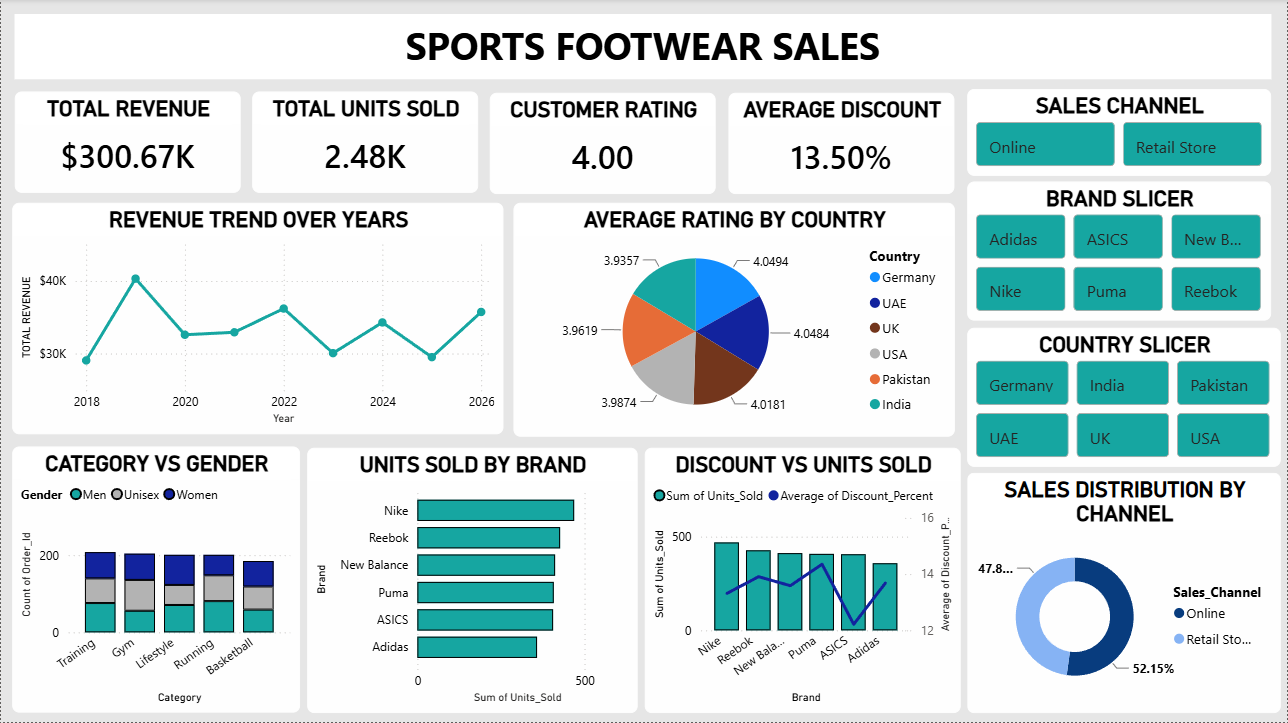

This screenshot's page, from the dashboard's own definition file:
{"tool":"powerbi","page":{"name":"Page 1","canvas":[1280,720],"ordinal":0},"visuals":[{"type":"textbox","box":[13.7,14.9,1250.2,65],"z":0},{"type":"cardVisual","title":"TOTAL REVENUE","fields":{"Data":["Sheet1.TOTAL REVENUE"]},"box":[13.7,92.1,225.2,100.8],"z":1000},{"type":"barChart","title":"UNITS SOLD BY BRAND","fields":{"Category":["Sheet1.brand"],"Y":["Sum(Sheet1.units_sold)"]},"box":[304.8,446.6,328.4,263.7],"z":2000},{"type":"lineChart","title":"REVENUE TREND OVER YEARS","fields":{"Y":["Sheet1.TOTAL REVENUE"],"Category":["Sheet1.order_date.Variation.Date Hierarchy.Year"]},"box":[11.2,202.8,488.9,230.1],"z":3000},{"type":"cardVisual","title":"TOTAL UNITS SOLD","fields":{"Data":["Sheet1.TOTAL UNITS SOLD"]},"box":[250,92.1,225.2,100.8],"z":4000},{"type":"cardVisual","title":"CUSTOMER RATING","fields":{"Data":["Sheet1.AVERAGE RATING"]},"box":[486.4,93.3,225.2,100.8],"z":5000},{"type":"cardVisual","title":"AVERAGE DISCOUNT","fields":{"Data":["Sheet1.AVERAGE DISCOUNT"]},"box":[724,93.3,225.2,100.8],"z":6000},{"type":"pieChart","title":"AVERAGE RATING BY COUNTRY","fields":{"Category":["Sheet1.Country"],"Y":["Avg(Sheet1.Customer_Rating)"]},"box":[510,202.8,439.1,232.6],"z":7000},{"type":"columnChart","title":"CATEGORY VS GENDER","fields":{"Category":["Sheet1.Category"],"Y":["CountNonNull(Sheet1.Order_Id)"],"Series":["Sheet1.Gender"]},"box":[11.2,445.3,286.1,265],"z":8000},{"type":"donutChart","title":"SALES DISTRIBUTION BY CHANNEL","fields":{"Category":["Sheet1.Sales_Channel"],"Y":["CountNonNull(Sheet1.Order_Id)"]},"box":[961.6,471.5,312.2,238.8],"z":9000},{"type":"advancedSlicerVisual","title":"COUNTRY SLICER","fields":{"Values":["Sheet1.Country"]},"box":[961.6,327.2,312.2,138],"z":10000},{"type":"advancedSlicerVisual","title":"BRAND SLICER","fields":{"Values":["Sheet1.Brand"]},"box":[961.6,181.6,302.3,138.1],"z":11000},{"type":"lineClusteredColumnComboChart","title":"DISCOUNT VS UNITS SOLD","fields":{"Y":["Sum(Sheet1.Units_Sold)"],"Category":["Sheet1.Brand"],"Y2":["Avg(Sheet1.Discount_Percent)"]},"box":[640.6,446.6,314.7,263.7],"z":12000},{"type":"advancedSlicerVisual","title":"SALES CHANNEL","fields":{"Values":["Sheet1.Sales_Channel"]},"box":[961.6,89.6,302.3,86],"z":13000}]}

Visuals, with their boxes in screenshot pixels (x1, y1, x2, y2), scaled from the page's 1280x720 canvas onto the 1288x723 screenshot:
textbox: x1=14 y1=15 x2=1272 y2=80
"TOTAL REVENUE" cardVisual: x1=14 y1=92 x2=240 y2=194
"UNITS SOLD BY BRAND" barChart: x1=307 y1=448 x2=637 y2=713
"REVENUE TREND OVER YEARS" lineChart: x1=11 y1=204 x2=503 y2=435
"TOTAL UNITS SOLD" cardVisual: x1=252 y1=92 x2=478 y2=194
"CUSTOMER RATING" cardVisual: x1=489 y1=94 x2=716 y2=195
"AVERAGE DISCOUNT" cardVisual: x1=729 y1=94 x2=955 y2=195
"AVERAGE RATING BY COUNTRY" pieChart: x1=513 y1=204 x2=955 y2=437
"CATEGORY VS GENDER" columnChart: x1=11 y1=447 x2=299 y2=713
"SALES DISTRIBUTION BY CHANNEL" donutChart: x1=968 y1=473 x2=1282 y2=713
"COUNTRY SLICER" advancedSlicerVisual: x1=968 y1=329 x2=1282 y2=467
"BRAND SLICER" advancedSlicerVisual: x1=968 y1=182 x2=1272 y2=321
"DISCOUNT VS UNITS SOLD" lineClusteredColumnComboChart: x1=645 y1=448 x2=961 y2=713
"SALES CHANNEL" advancedSlicerVisual: x1=968 y1=90 x2=1272 y2=176
